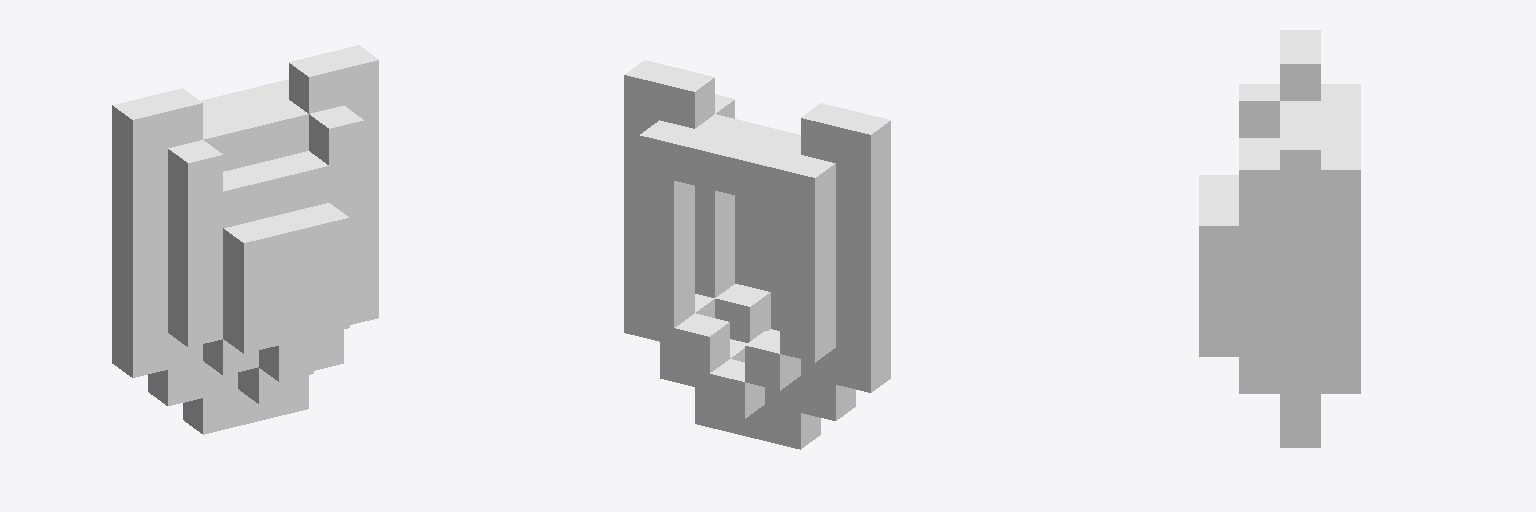
File: Shield2.obj
3 views of the same model, side by side, from view 1: azimuth 30°, elevation 25°; view 2: azimuth 150°, elevation 25°; view 3: azimuth 270°, elevation 25° (orthographic).
Visible parts, largest first — view 1: object 1; view 2: object 1; view 3: object 1.
Boxes of the visible parts, x1=… form: object 1: x1=112, y1=45, x2=378, y2=434; object 1: x1=624, y1=60, x2=890, y2=449; object 1: x1=1199, y1=30, x2=1360, y2=447.
Size of the model in its own units: 0.7 by 0.9 by 0.4.